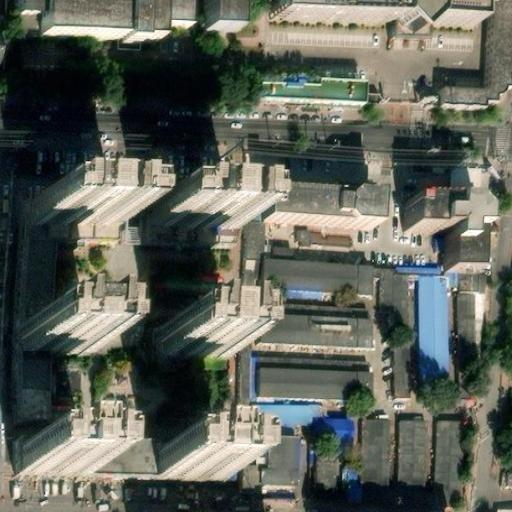building: (436, 0, 511, 109), (408, 176, 485, 272), (273, 0, 478, 35), (240, 188, 266, 402), (260, 356, 375, 398), (23, 342, 71, 439), (417, 272, 453, 400), (40, 0, 161, 37), (27, 219, 74, 314), (265, 188, 382, 225), (261, 313, 374, 347), (263, 259, 374, 293), (159, 433, 235, 475), (25, 304, 101, 345), (22, 429, 97, 469), (146, 316, 220, 356), (135, 197, 229, 228), (31, 192, 124, 222), (456, 272, 487, 361), (97, 431, 160, 473), (436, 420, 466, 508), (398, 421, 431, 499), (361, 418, 391, 501), (259, 81, 367, 104), (239, 401, 328, 427), (262, 434, 303, 486), (380, 268, 412, 329), (394, 329, 419, 399), (241, 433, 264, 506), (314, 437, 340, 497), (207, 0, 243, 30), (315, 420, 356, 438), (338, 469, 361, 501)
